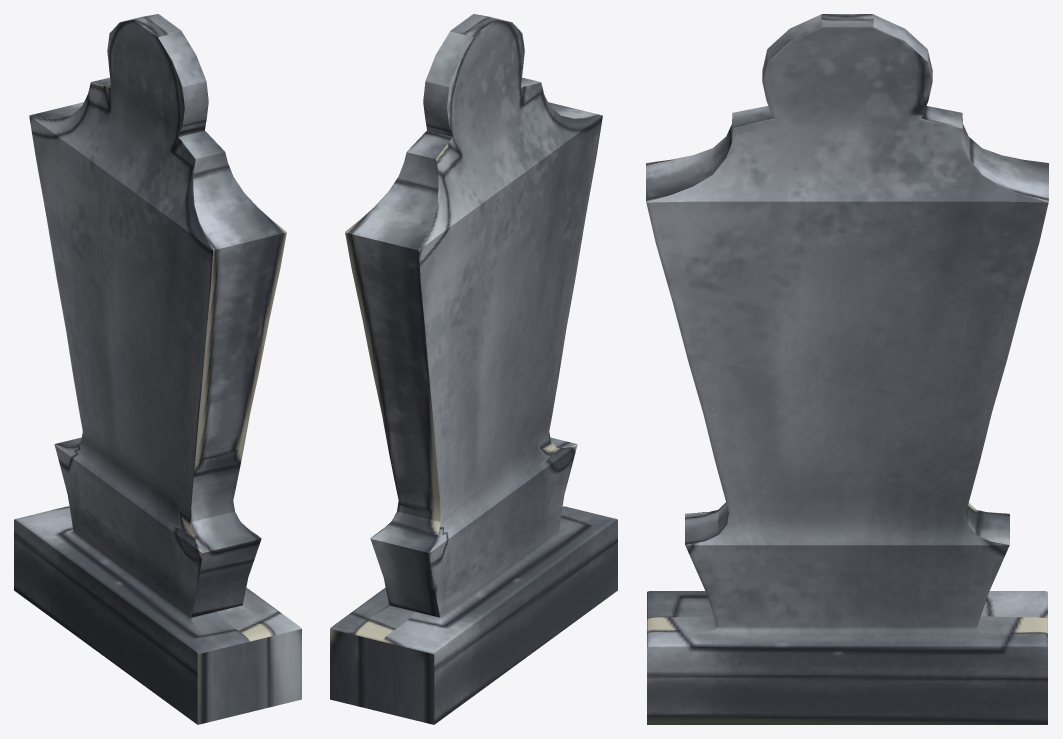
The model's file is gravestonesthick.fbx.
3 renders of one model, left to right at view 1: azimuth 30°, elevation 25°; view 2: azimuth 150°, elevation 25°; view 3: azimuth 270°, elevation 25°, orthographic. The views are drawn at different scales.
Visible parts, largest first — view 1: Gravestone2; view 2: Gravestone2; view 3: Gravestone2.
Part boxes in pixels (bbox=[...]): Gravestone2: bbox=[14, 14, 301, 724]; Gravestone2: bbox=[330, 14, 617, 724]; Gravestone2: bbox=[646, 14, 1048, 724].
Bounding box in the file's own units: 74.42 × 423 × 228.
Materials: 1 (1 with a texture image).
